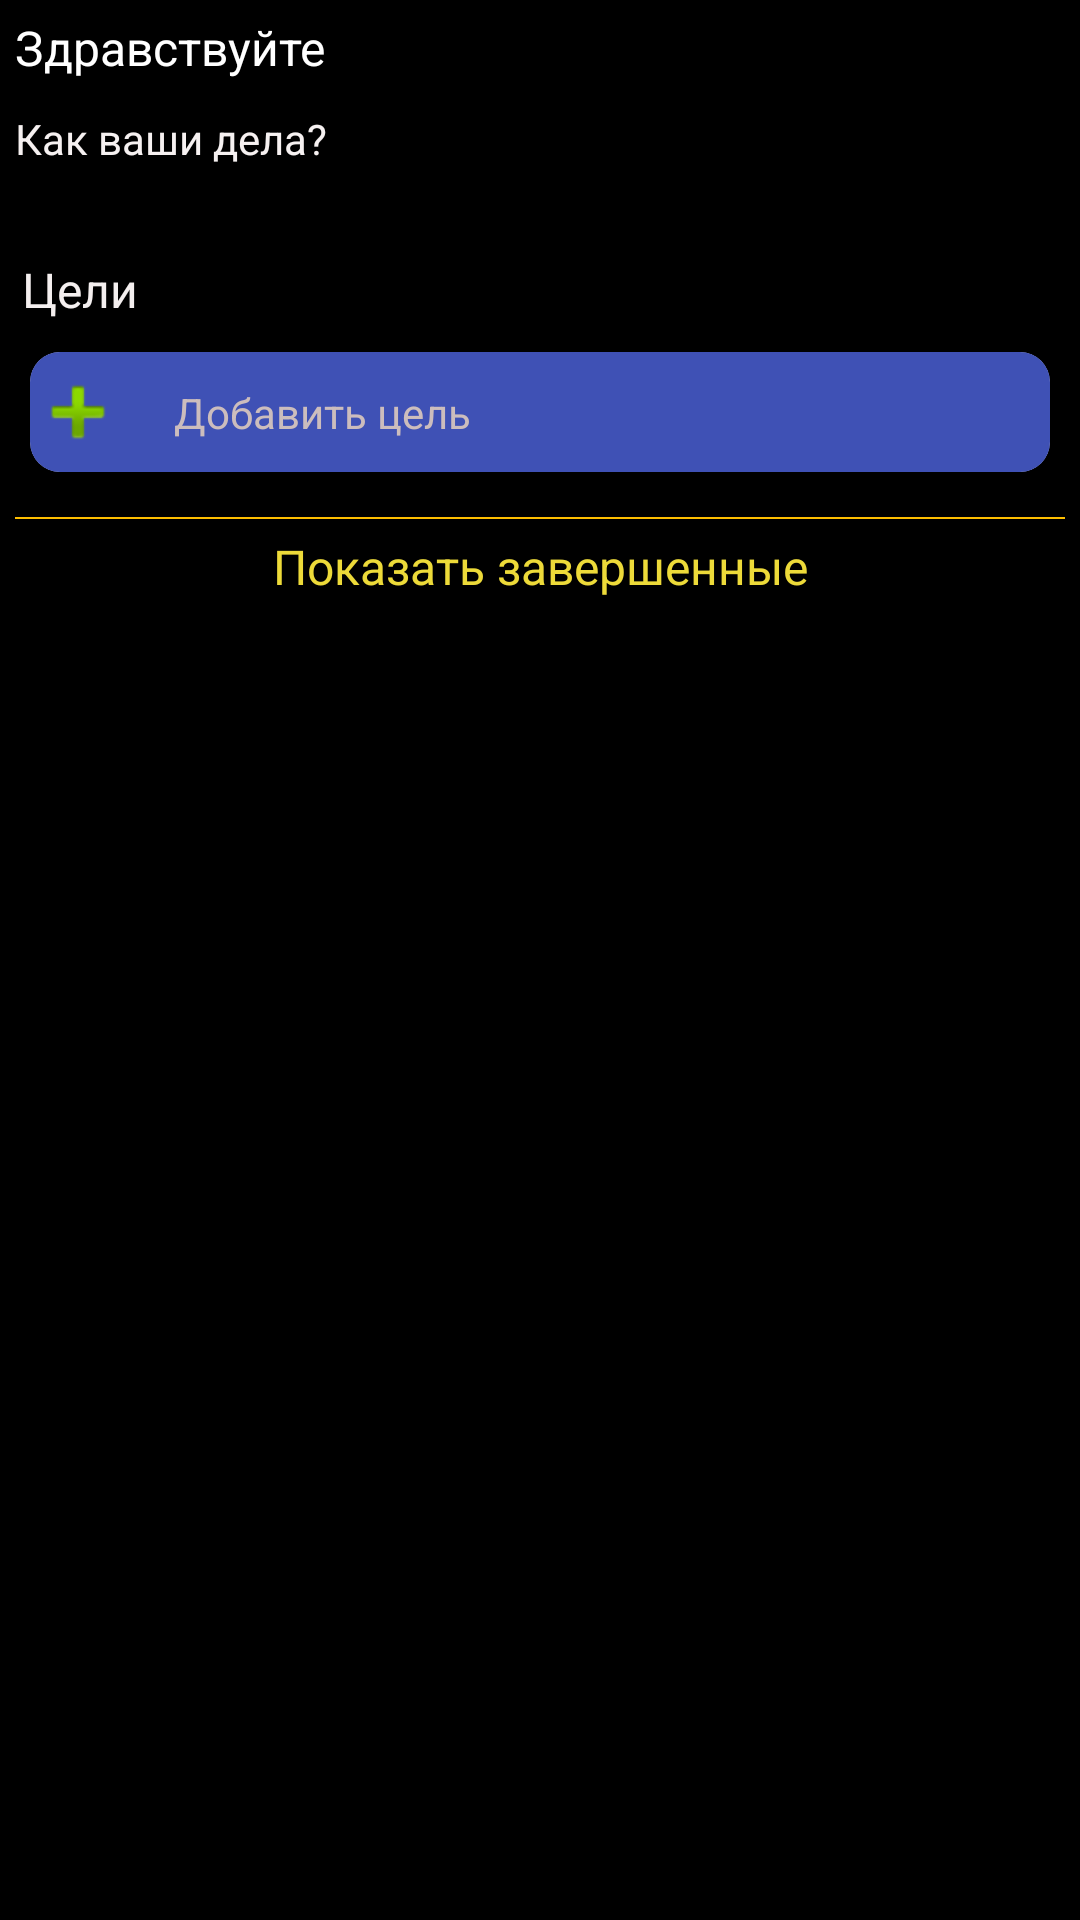

Named icons in this screenshot (1080 × 1920) and their centers, point (x, y):
add: point (78, 412)
